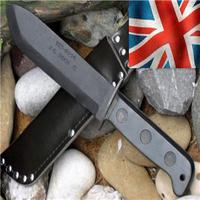knife: (6, 2, 189, 185)
